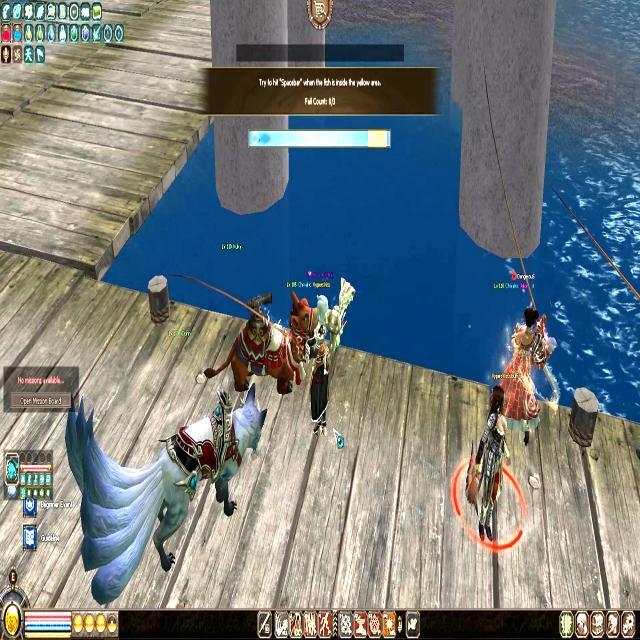fishes: (252, 132, 270, 146)
